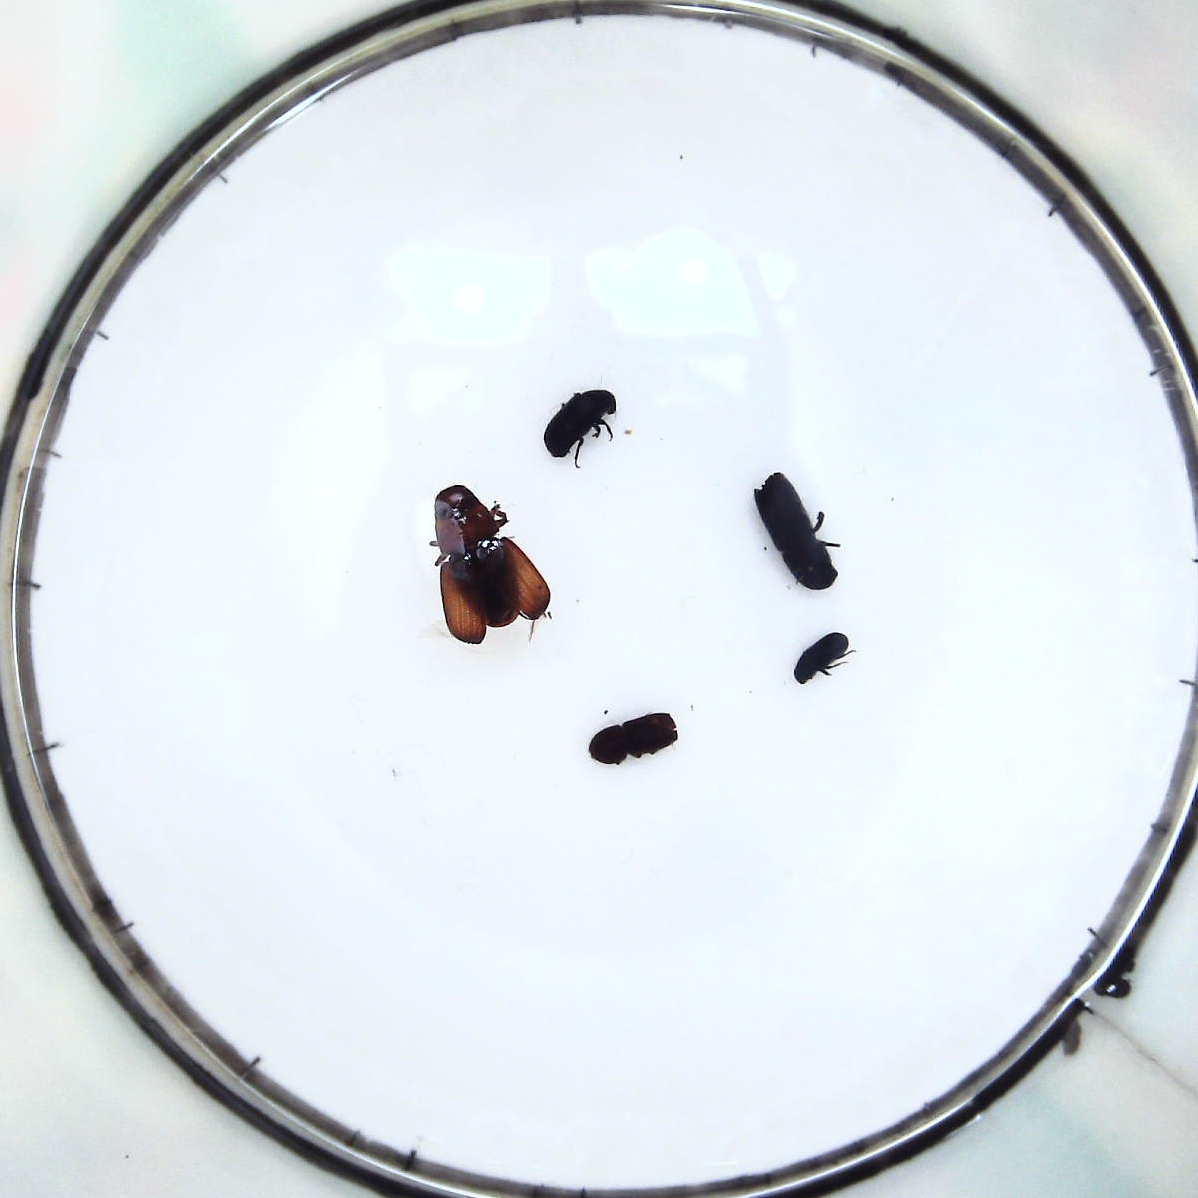Boerner: (754, 472, 845, 596)
Leconte: (430, 481, 554, 647)
Linnaeus: (598, 713, 671, 767)
armandi: (547, 391, 613, 459)
coleoptera: (793, 637, 850, 679)
